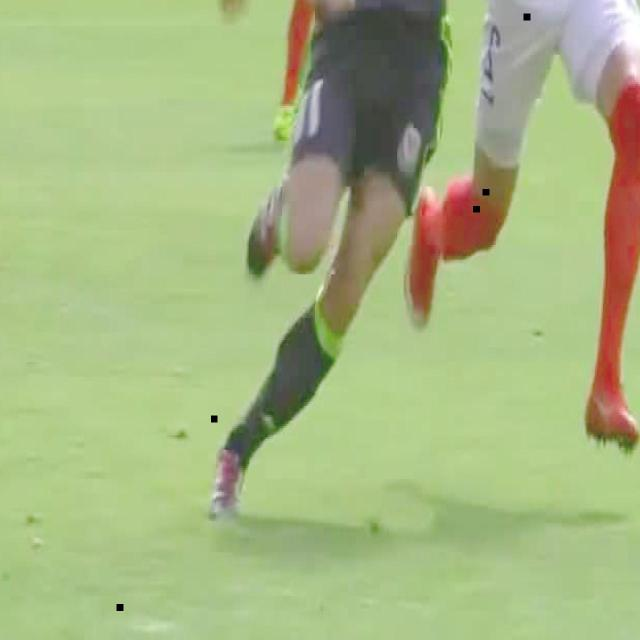player-white: (210, 1, 452, 520), (404, 0, 640, 454), (268, 0, 370, 137)
